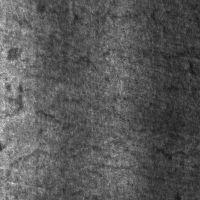crazing: (19, 28, 164, 107), (88, 104, 199, 182)
